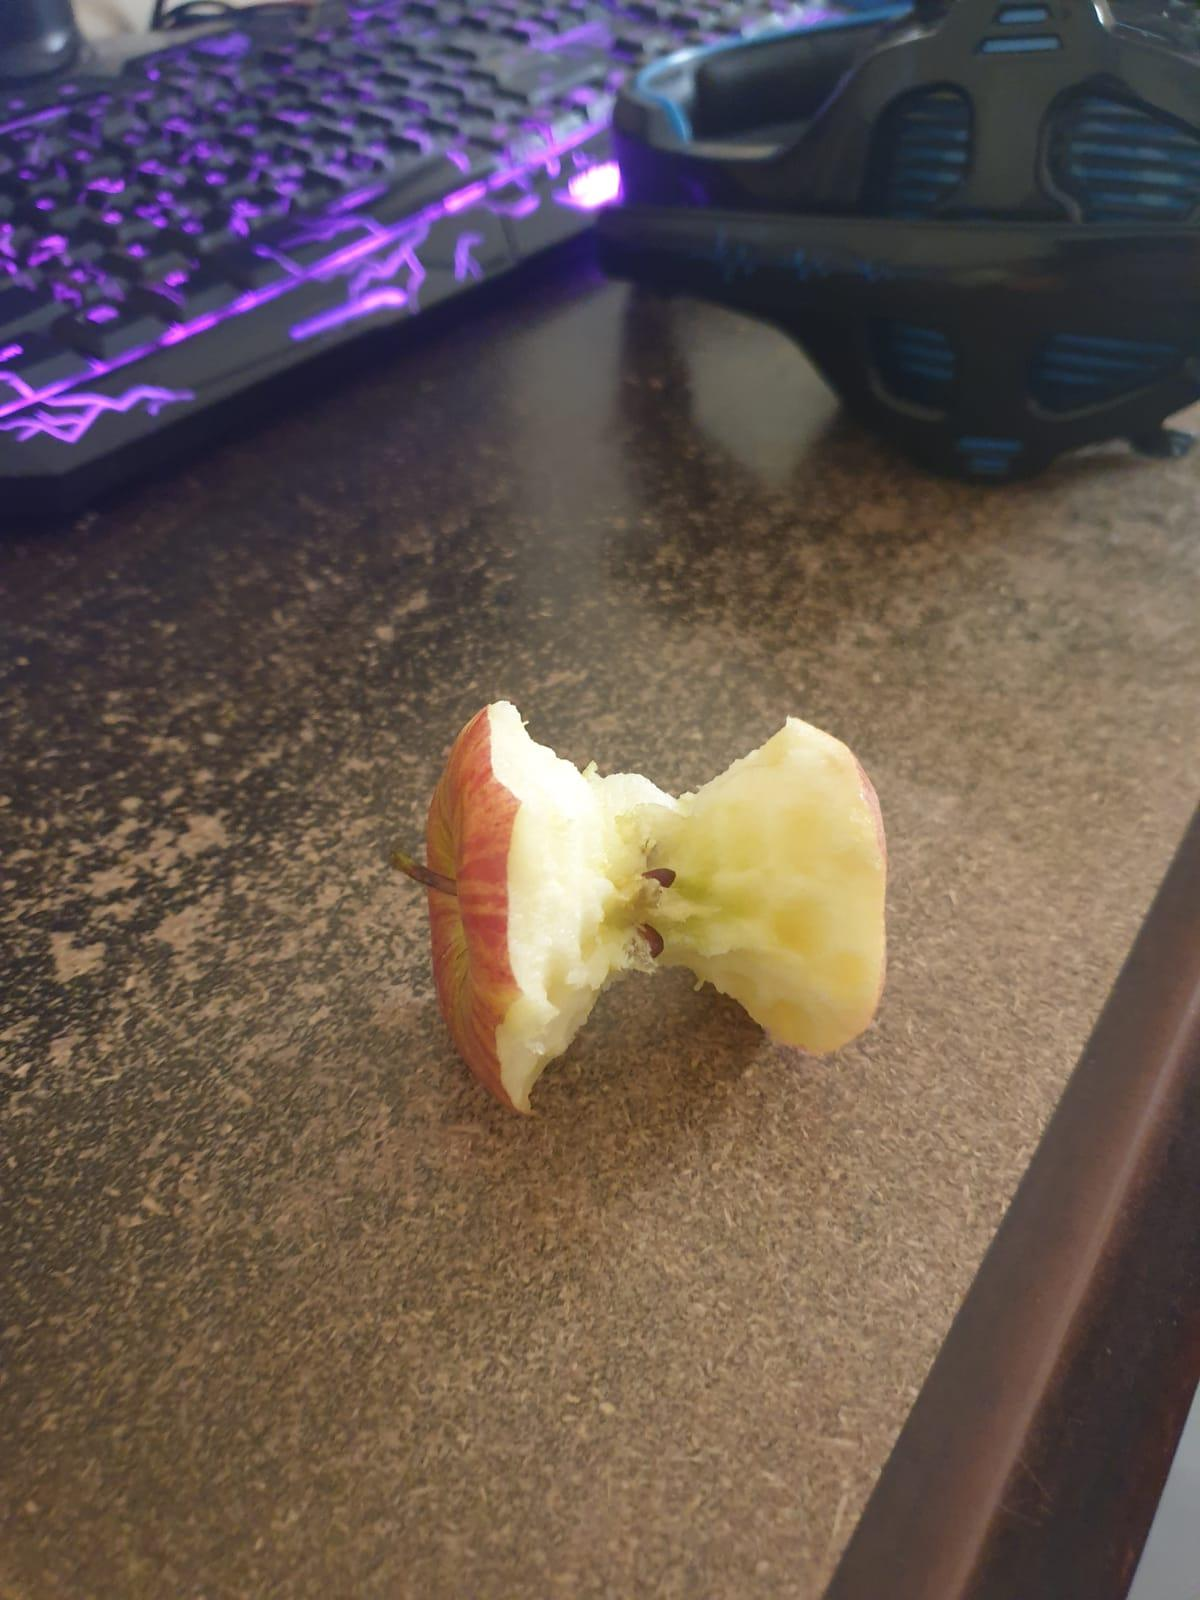Apple: (371, 707, 921, 1114)
